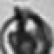correct: (0, 5, 54, 54)
